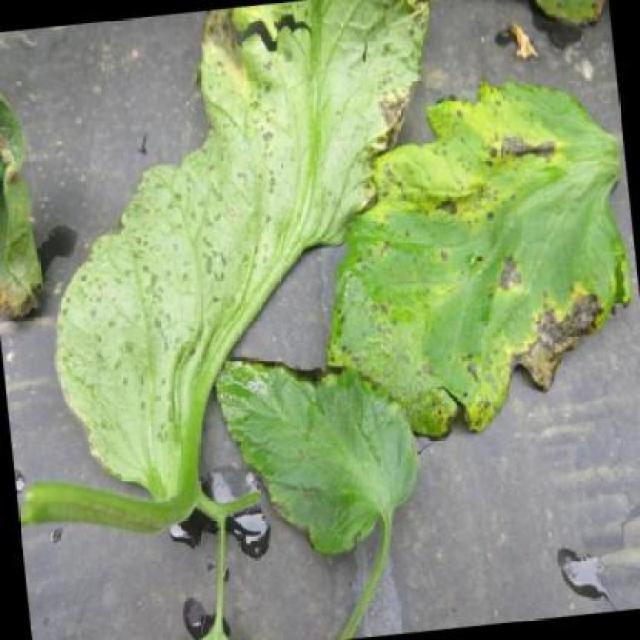Tomato leaf bacterial spot: (289, 83, 640, 446)
